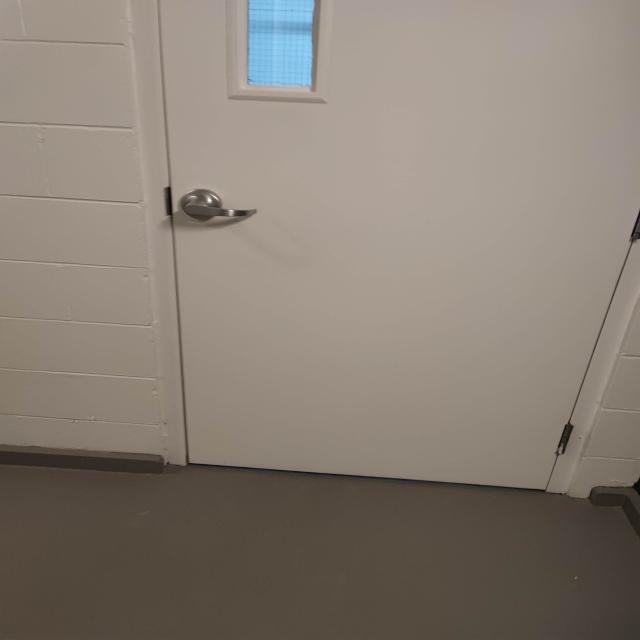door-handle: (180, 189, 257, 220)
